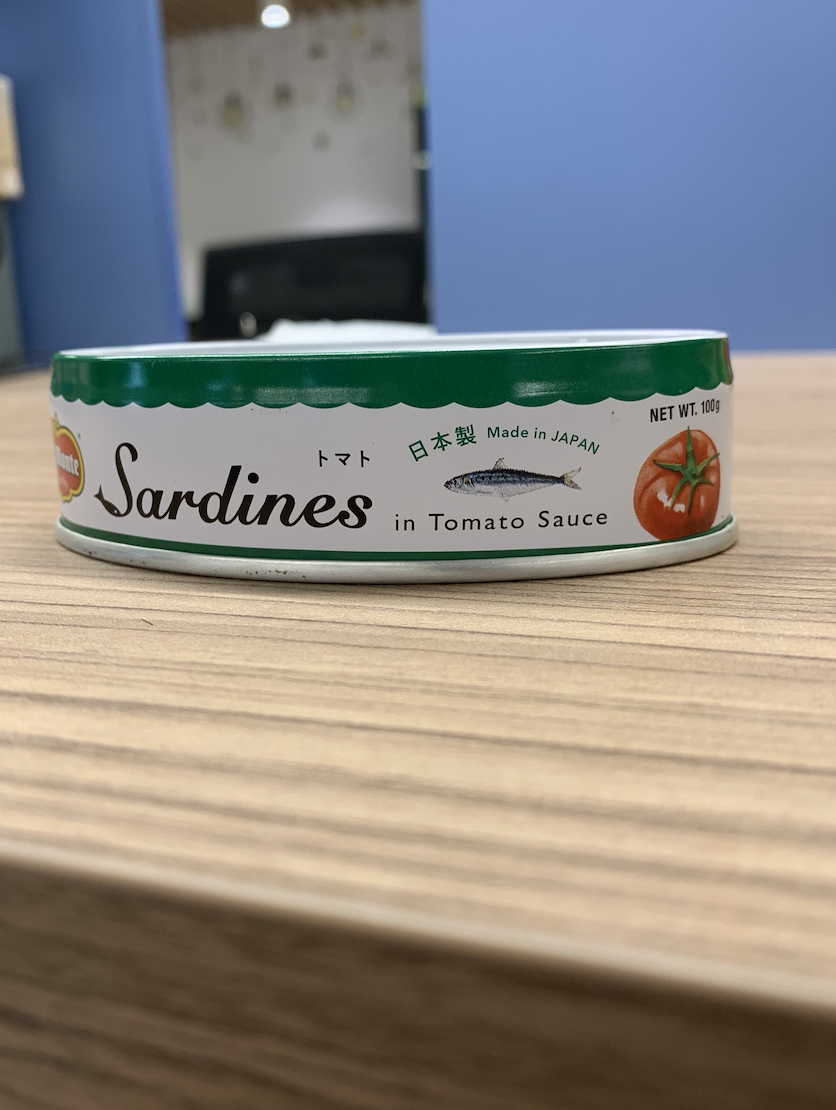sardines_150g: (60, 363, 725, 548)
